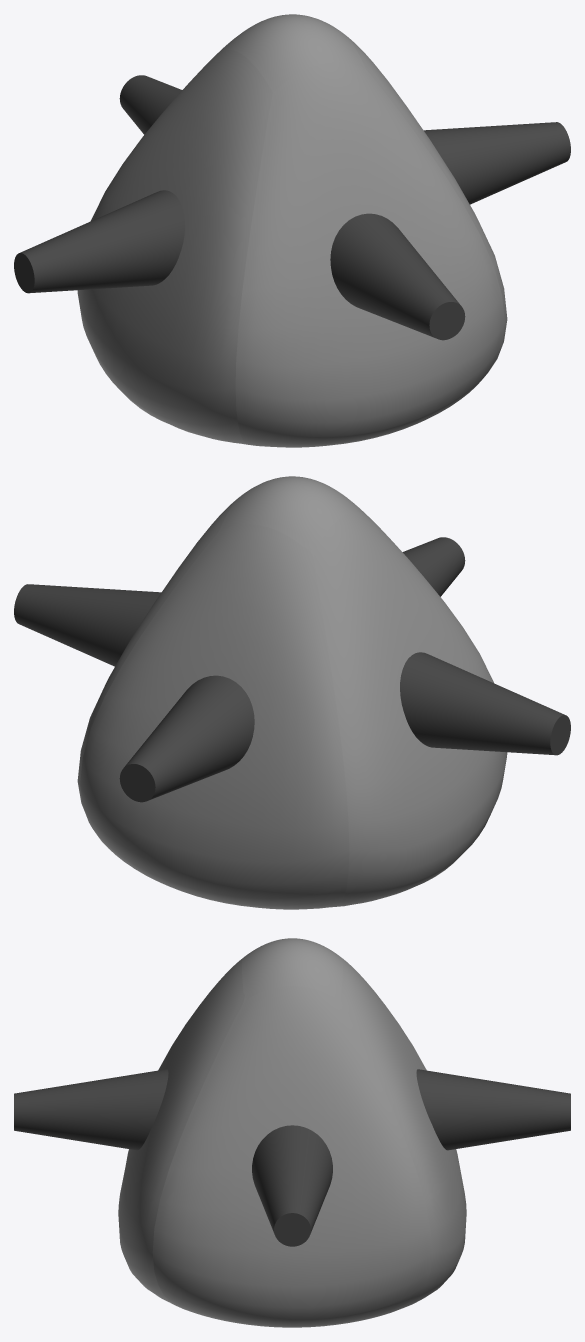
3 renders of one model, top to bottom at view 1: azimuth 30°, elevation 25°; view 2: azimuth 150°, elevation 25°; view 3: azimuth 270°, elevation 25°, orthographic. The views are drawn at different scales.
Parts seen in each view (by area): view 1: Body(Pyramidal)+Colour(6000000_6000000)+Pattern(Solid)+_f3b8, Arm002, Arm004, Arm001, Arm003; view 2: Body(Pyramidal)+Colour(6000000_6000000)+Pattern(Solid)+_f3b8, Arm002, Arm003, Arm001, Arm004; view 3: Body(Pyramidal)+Colour(6000000_6000000)+Pattern(Solid)+_f3b8, Arm004, Arm003, Arm001.
Boxes of the visible parts, left/top/right/bottom form: Body(Pyramidal)+Colour(6000000_6000000)+Pattern(Solid)+_f3b8: left=77, top=14, right=507, bottom=447; Arm002: left=14, top=190, right=184, bottom=293; Arm004: left=330, top=213, right=465, bottom=340; Arm001: left=424, top=122, right=570, bottom=204; Arm003: left=119, top=75, right=181, bottom=134; Body(Pyramidal)+Colour(6000000_6000000)+Pattern(Solid)+_f3b8: left=77, top=476, right=507, bottom=909; Arm002: left=400, top=652, right=570, bottom=755; Arm003: left=119, top=675, right=254, bottom=802; Arm001: left=14, top=584, right=161, bottom=666; Arm004: left=402, top=537, right=465, bottom=596; Body(Pyramidal)+Colour(6000000_6000000)+Pattern(Solid)+_f3b8: left=118, top=938, right=466, bottom=1327; Arm004: left=14, top=1069, right=168, bottom=1150; Arm003: left=416, top=1069, right=570, bottom=1150; Arm001: left=252, top=1125, right=332, bottom=1246.
Bounding box in the file's own units: 1.52 × 1.02 × 1.52.
2 materials, 2 textured.
